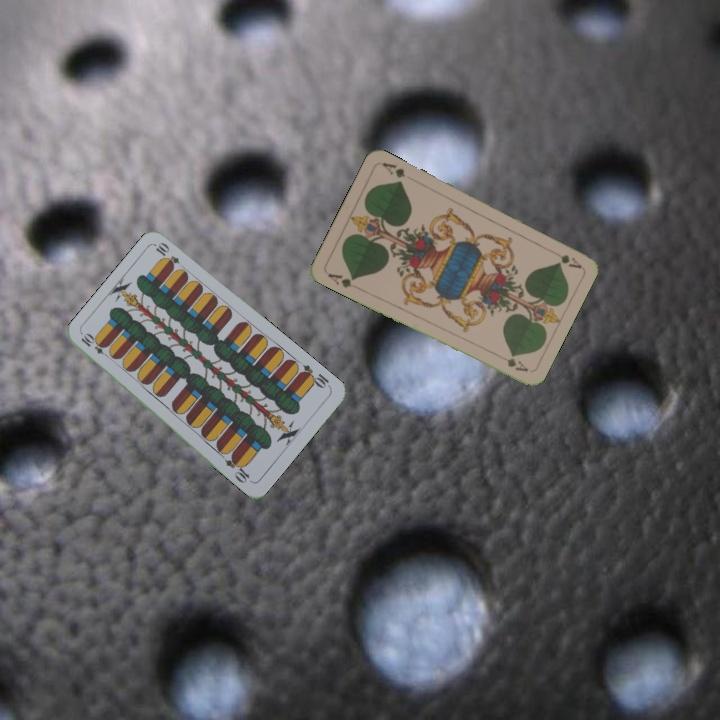E10: (77, 330, 113, 361), (296, 361, 333, 391)
GA: (546, 246, 584, 271), (323, 269, 361, 292)
